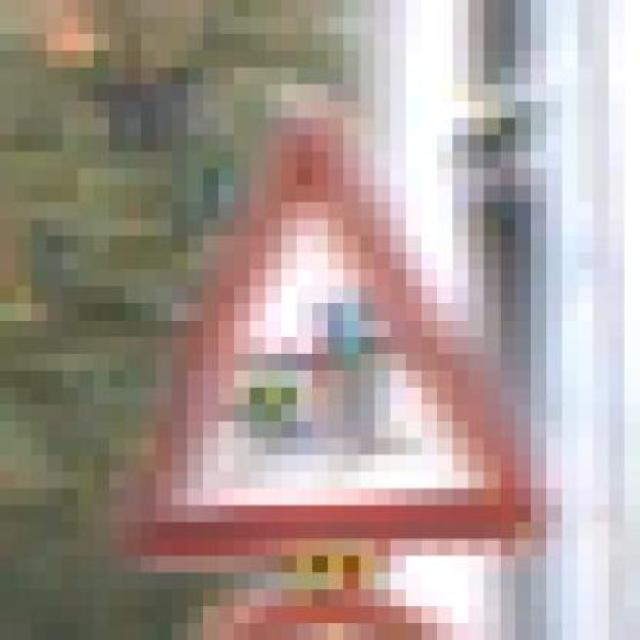Beware of children: (112, 77, 580, 583)
